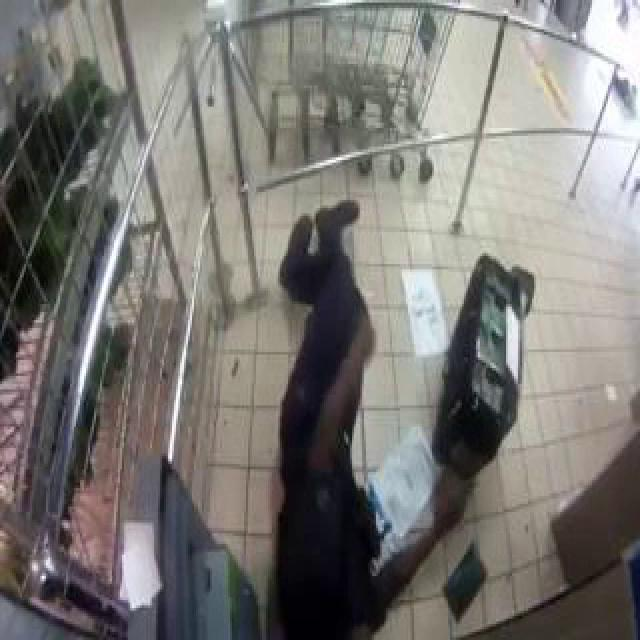shooting: (239, 124, 621, 640)
